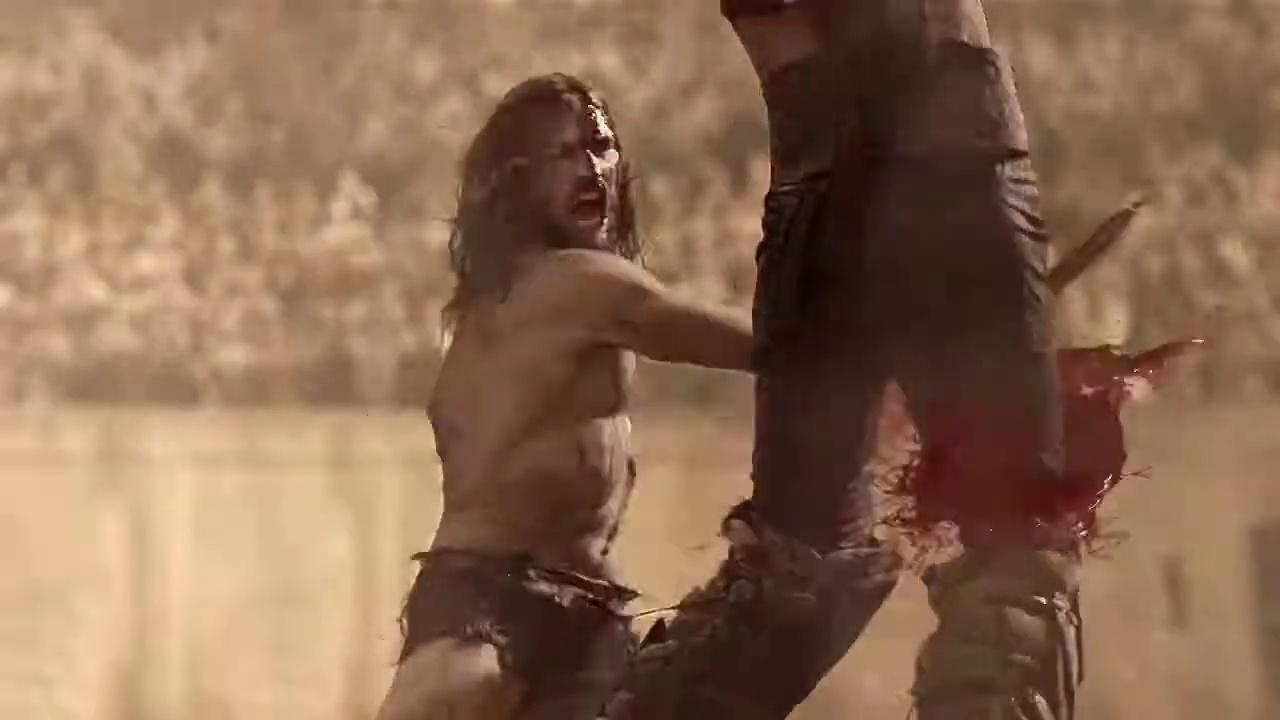Fire: (869, 342, 1184, 572), (527, 95, 621, 248)
